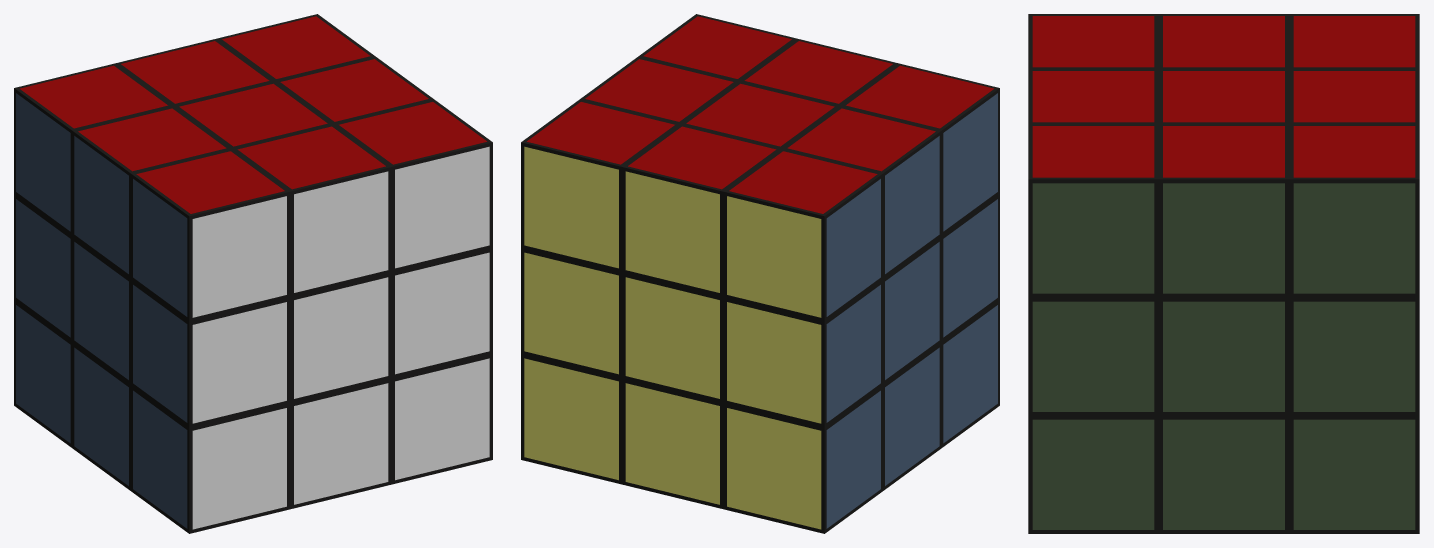
File: RubiksCube.fbx
3 renders of one model, left to right at view 1: azimuth 30°, elevation 25°; view 2: azimuth 150°, elevation 25°; view 3: azimuth 270°, elevation 25°, orthographic. The views are drawn at different scales.
Visible parts, largest first — view 1: Cube; view 2: Cube; view 3: Cube.
Part boxes in pixels (<box>): Cube: <box>14,14,492,533</box>; Cube: <box>521,14,999,533</box>; Cube: <box>1028,14,1419,533</box>.
Size of the model in its own units: 200 by 200 by 200.
